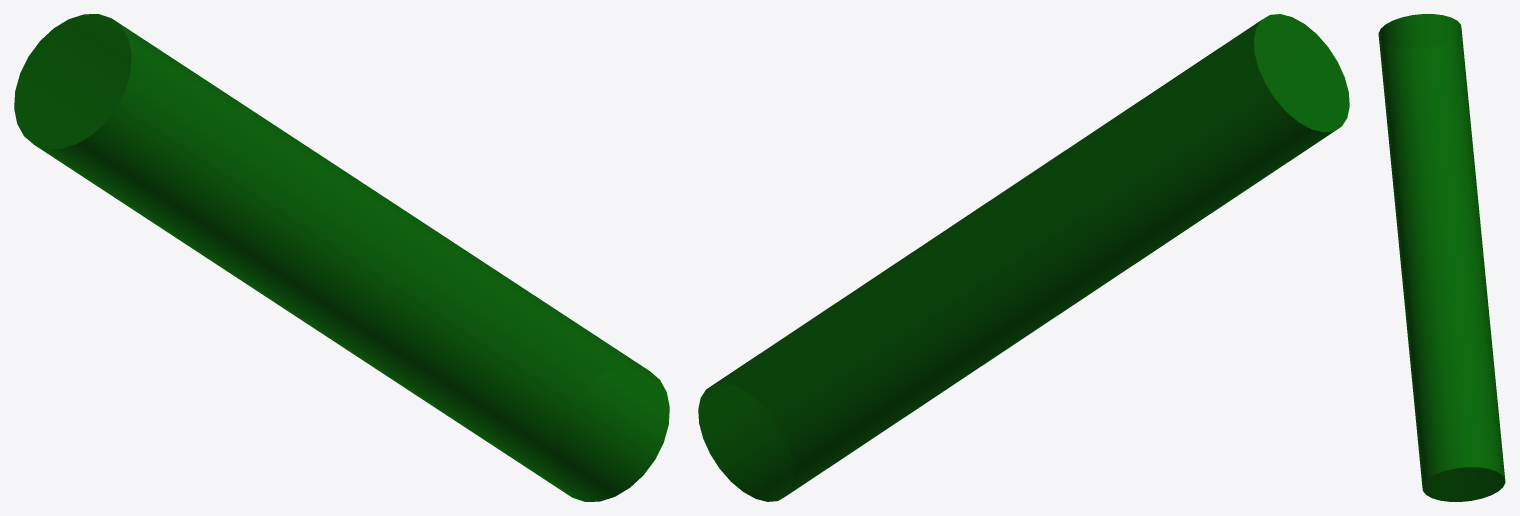
The model's file is Event_191826238_jet_4.fbx.
3 views of the same model, side by side, from view 1: azimuth 30°, elevation 25°; view 2: azimuth 150°, elevation 25°; view 3: azimuth 270°, elevation 25° (orthographic). The views are drawn at different scales.
Parts seen in each view (by area): view 1: Model; view 2: Model; view 3: Model.
Part boxes in pixels (x1,y1,x2,y2): Model: [14, 14, 669, 501]; Model: [698, 14, 1349, 501]; Model: [1378, 14, 1505, 501].
Bounding box in the file's own units: 0.2057 × 0.1855 × 0.0607.
